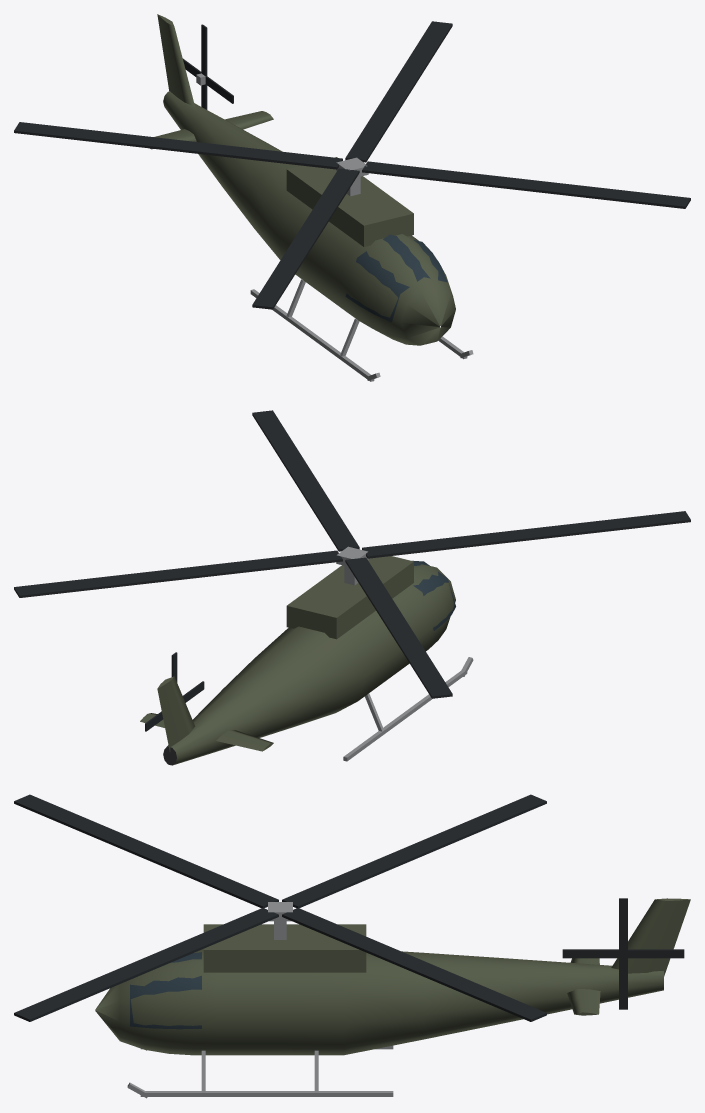
Rendered from helicopter_far.glb.
The picture shows the model from 3 angles, top to bottom: view 1: azimuth 30°, elevation 25°; view 2: azimuth 150°, elevation 25°; view 3: azimuth 270°, elevation 25°; orthographic projection. The views are drawn at different scales.
Visible parts, largest first — view 1: olive-body, rubber-rotor-main, glass-body, metal-body, rubber-rotor-tail; view 2: olive-body, rubber-rotor-main, metal-body, glass-body, rubber-rotor-tail; view 3: olive-body, rubber-rotor-main, metal-body, rubber-rotor-tail, glass-body.
Part boxes in pixels (x1,y1,x2,y2): olive-body: (150,14,455,345); rubber-rotor-main: (14,21,690,309); glass-body: (345,234,447,322); metal-body: (250,176,473,381); rubber-rotor-tail: (182,24,233,109); olive-body: (140,556,455,765); rubber-rotor-main: (14,410,690,698); metal-body: (343,566,473,761); glass-body: (412,560,455,630); rubber-rotor-tail: (145,652,204,731); olive-body: (95,898,690,1055); rubber-rotor-main: (14,794,546,1021); metal-body: (127,921,393,1098); rubber-rotor-tail: (562,898,684,1009); glass-body: (130,952,201,1029).
Size of the model in its own units: 11.81 by 4.46 by 15.
